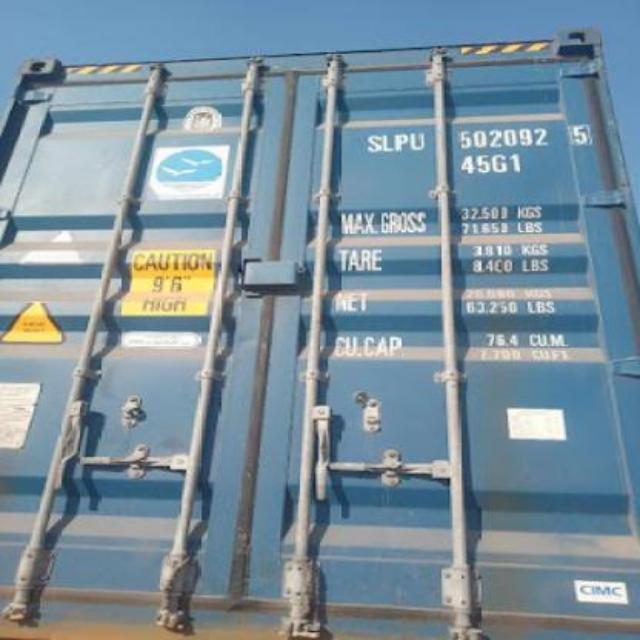0: (504, 122, 518, 148), (472, 126, 486, 150)
2: (532, 120, 550, 150), (488, 122, 502, 150)
5: (572, 122, 592, 146), (454, 125, 472, 151)
9: (518, 122, 532, 146)
L: (381, 126, 394, 156)
P: (392, 122, 408, 154)
S: (362, 126, 380, 154)
U: (406, 125, 426, 152)
